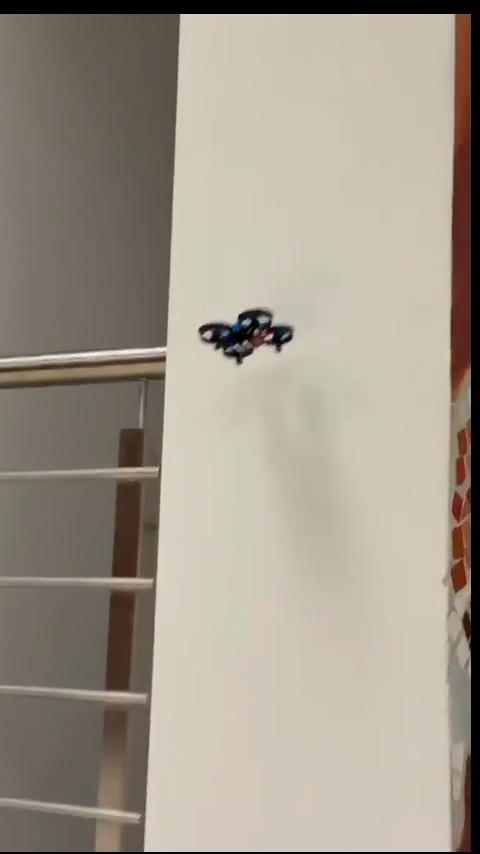drone: (197, 305, 295, 366)
